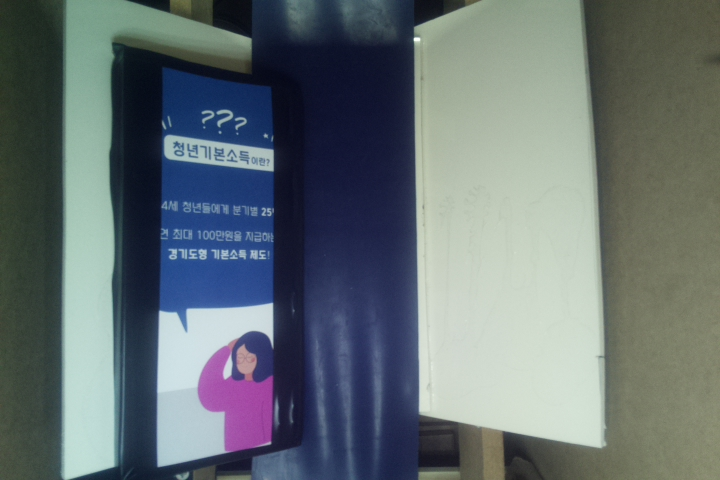book: (112, 41, 302, 480)
